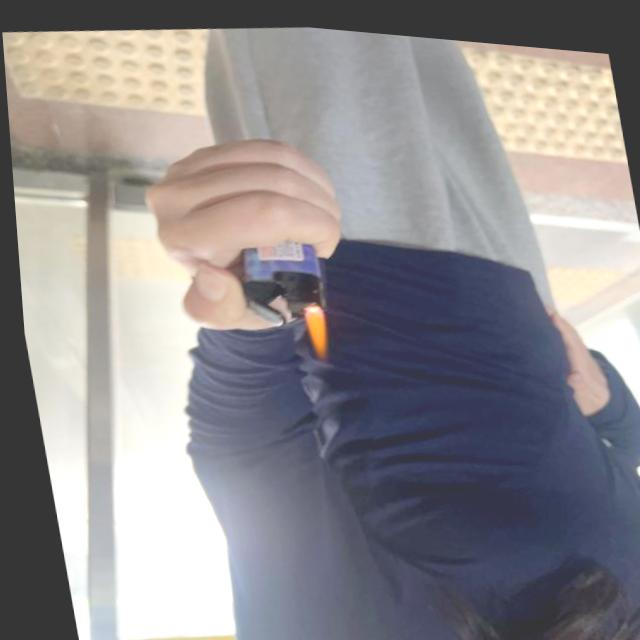Fire: (300, 304, 327, 351)
